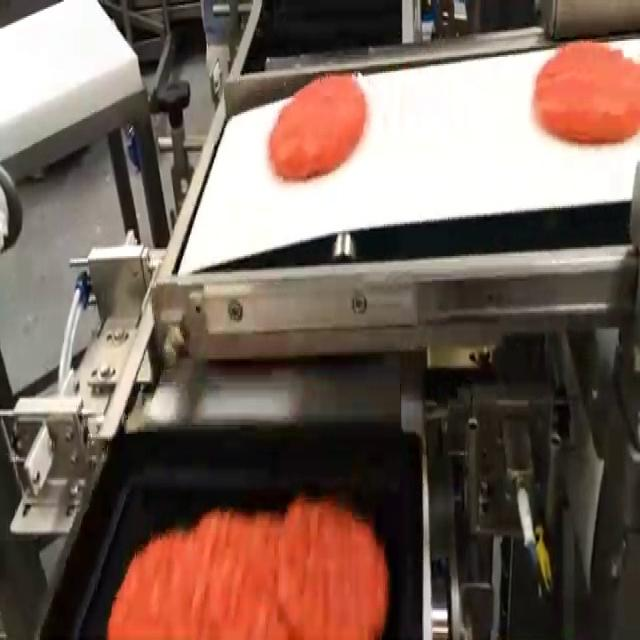4-hamburguer: (108, 496, 389, 638)
hamburguer: (533, 41, 639, 142), (268, 75, 367, 180)
